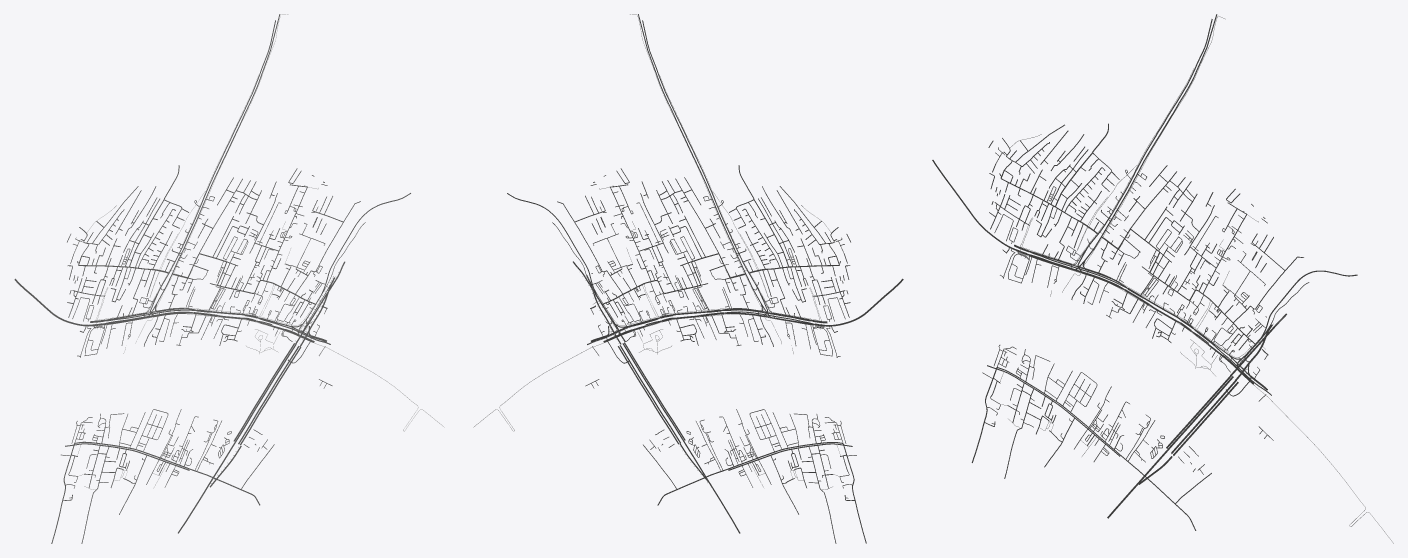
File: roads_3_4.obj
3 views of the same model, side by side, from view 1: azimuth 30°, elevation 25°; view 2: azimuth 150°, elevation 25°; view 3: azimuth 330°, elevation 25° (orthographic). The views are drawn at different scales.
Size of the model in its own units: 3370 by 3705 by 27.91.
5 materials, 5 textured.
